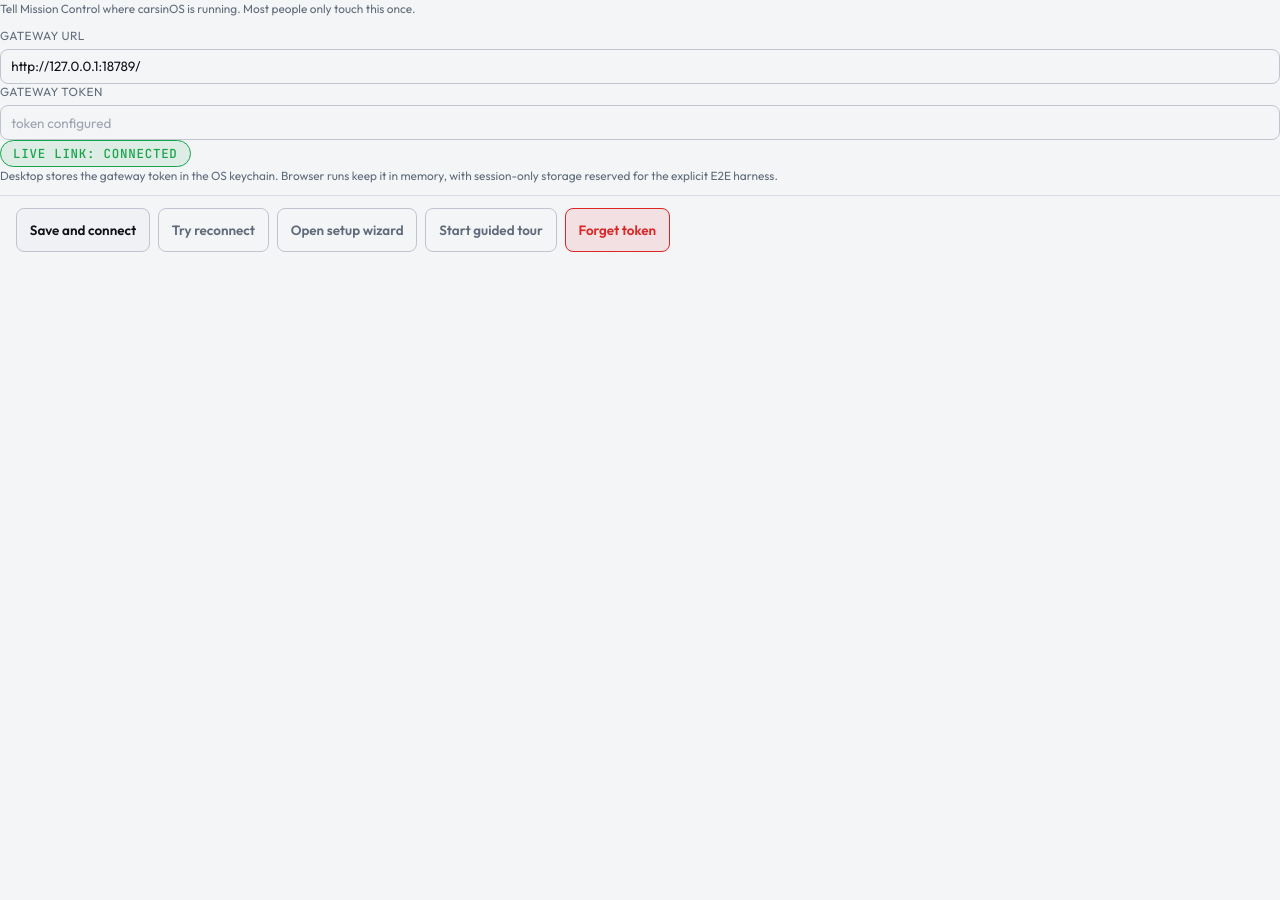
Scenario: ConnectionControls › requires exactly one confirmation before forgetting the token
What coordinates should you click on to do the following:
click the button "Forget token"
I would click on:
 (617, 230)
Its box is [565,208,670,252].
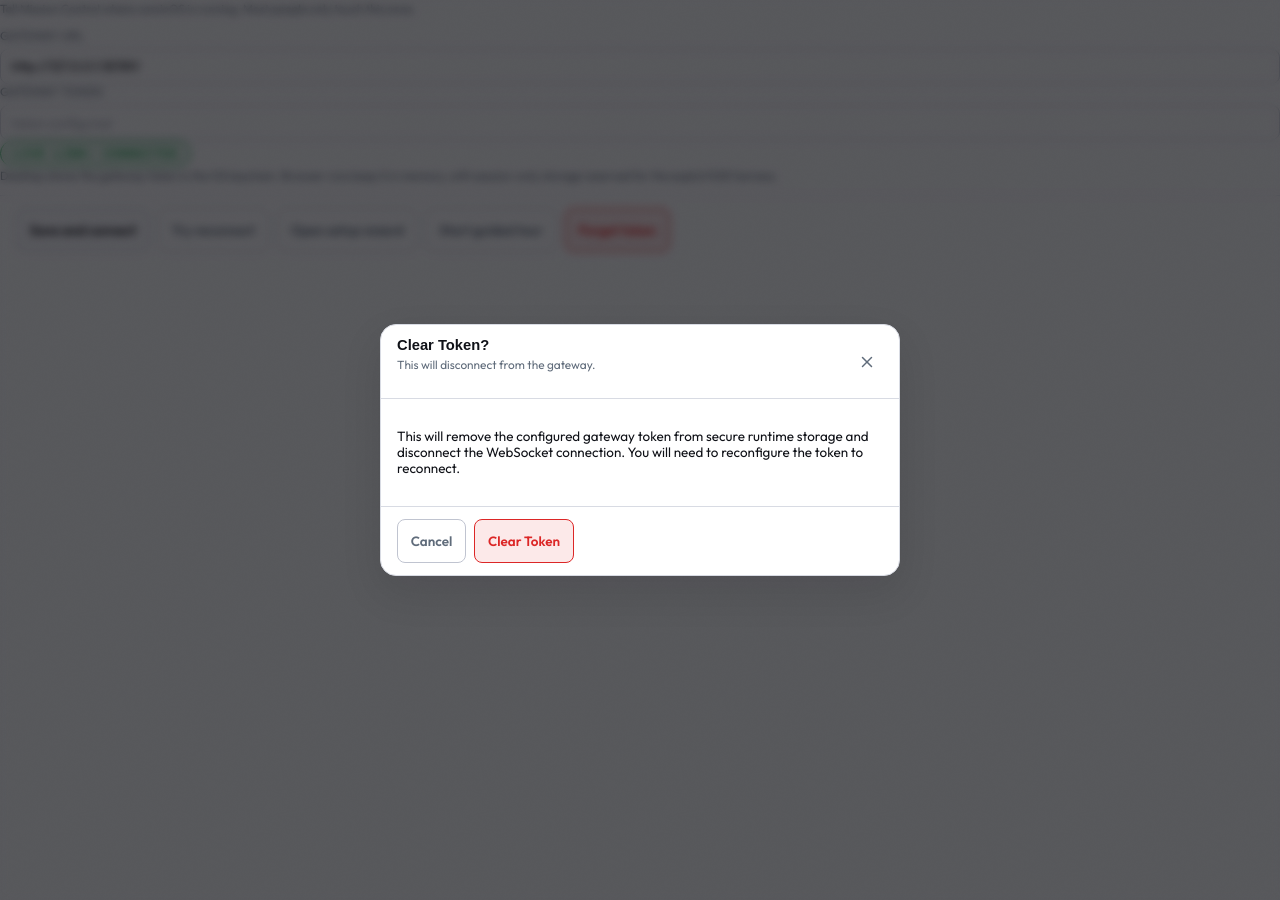
Expected: the text "disconnect the WebSocket connection" is shown, [397,428,869,476]
What coordinates should you click on to do the following:
click the button "Clear Token"
I would click on:
 (524, 541)
Its box is [474,519,574,563].
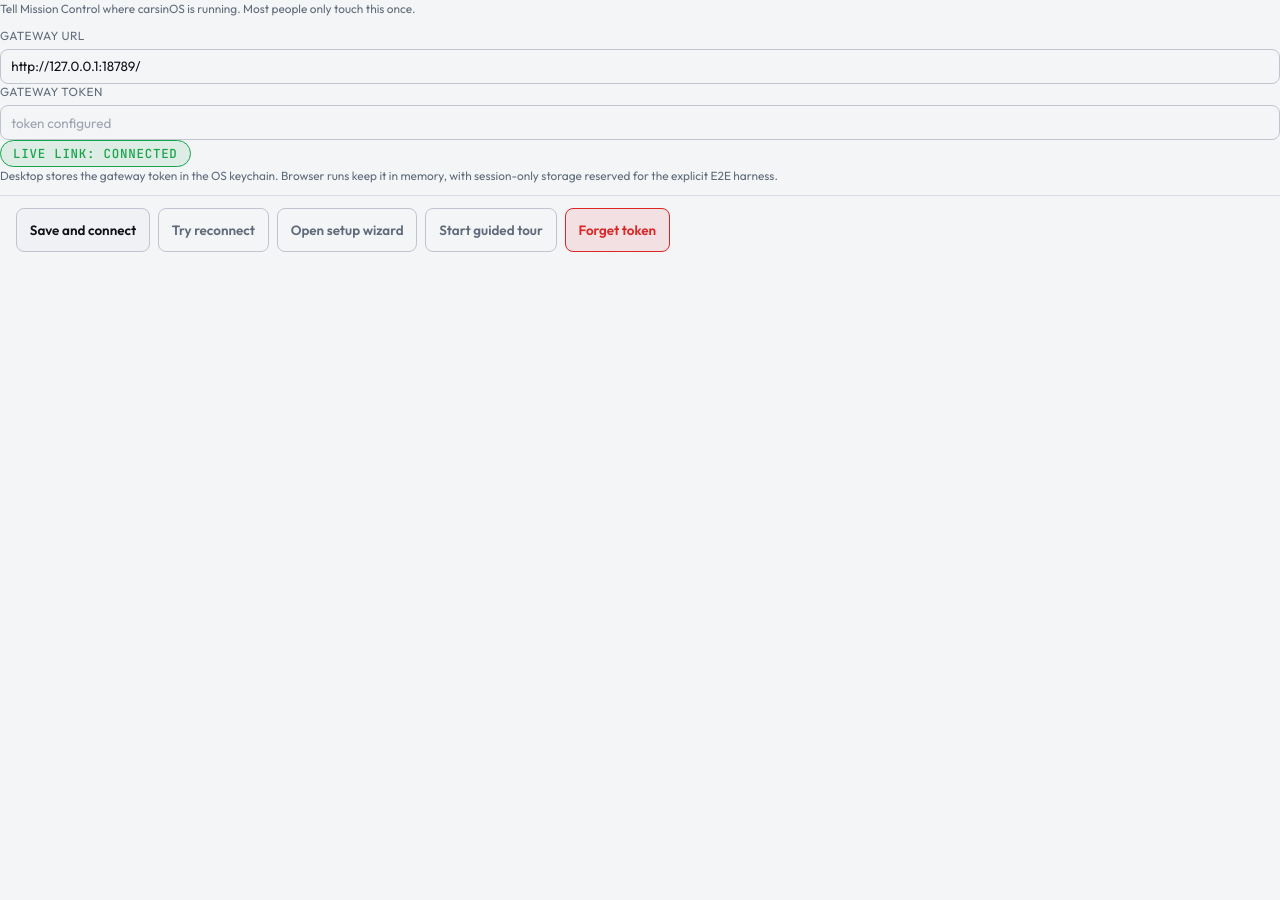
Expected: the text "Clear Token?" is gone
